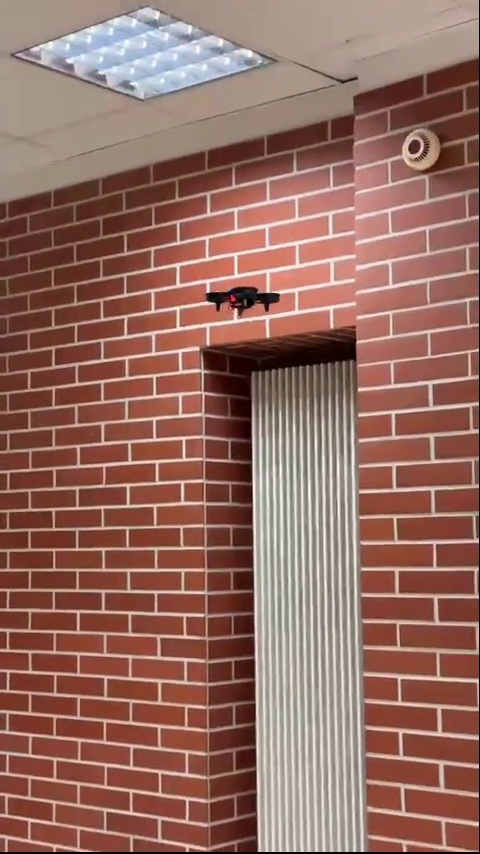drone: (202, 287, 276, 319)
